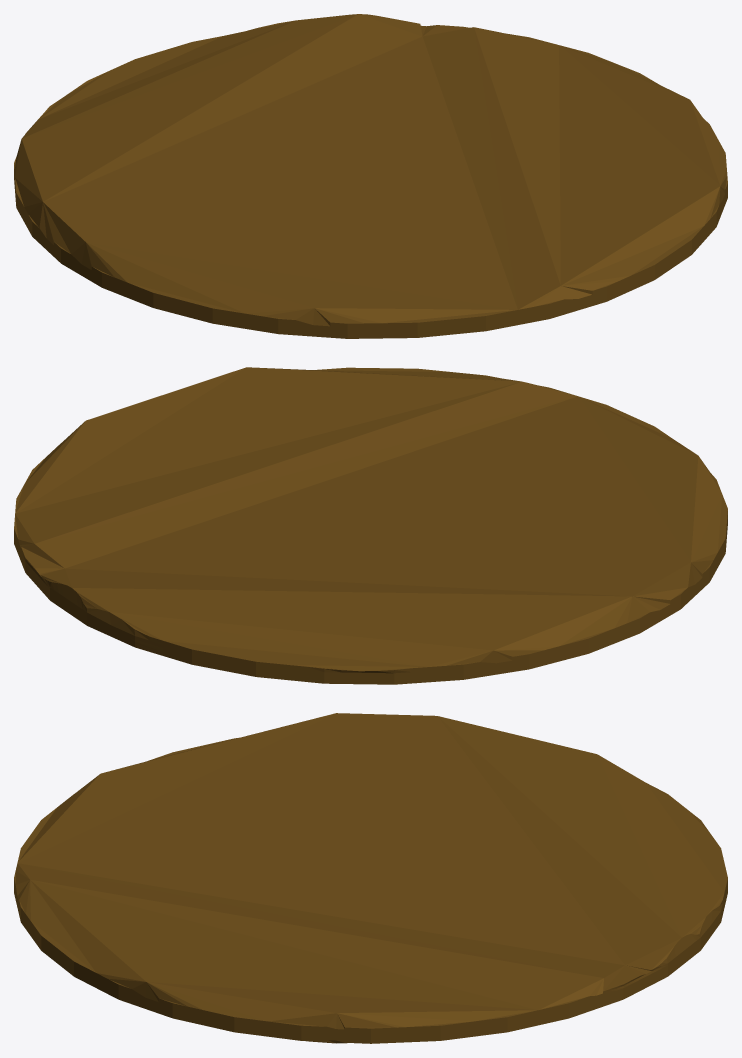
The model's file is fuckassCoaster.fbx.
3 views of the same model, one above another, from view 1: azimuth 30°, elevation 25°; view 2: azimuth 150°, elevation 25°; view 3: azimuth 270°, elevation 25° (orthographic).
Parts seen in each view (by area): view 1: Cylinder; view 2: Cylinder; view 3: Cylinder.
Boxes of the visible parts, <box> form: Cylinder: <box>14,14,727,338</box>; Cylinder: <box>14,367,727,684</box>; Cylinder: <box>14,713,727,1043</box>.
Size of the model in its own units: 149 by 8.92 by 149.
